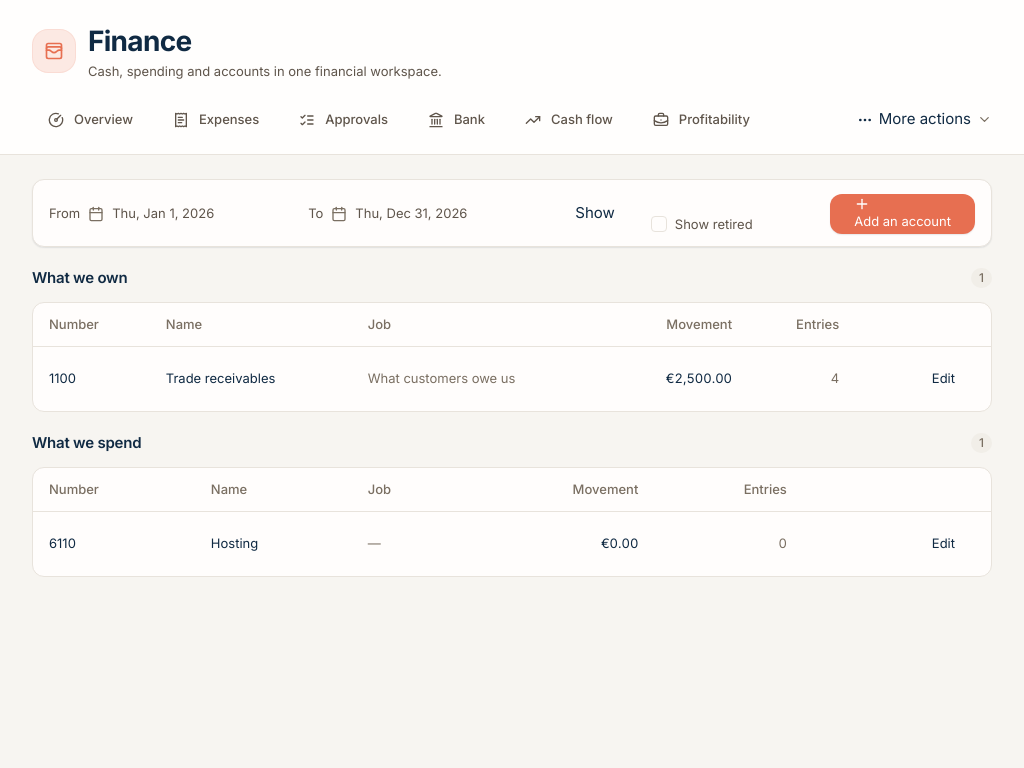
editing an account › a refusal is the server's own sentence, and the form stays open on it
Click the button "Edit" in the row of "6110" at (943,544), box [912,524,975,564]
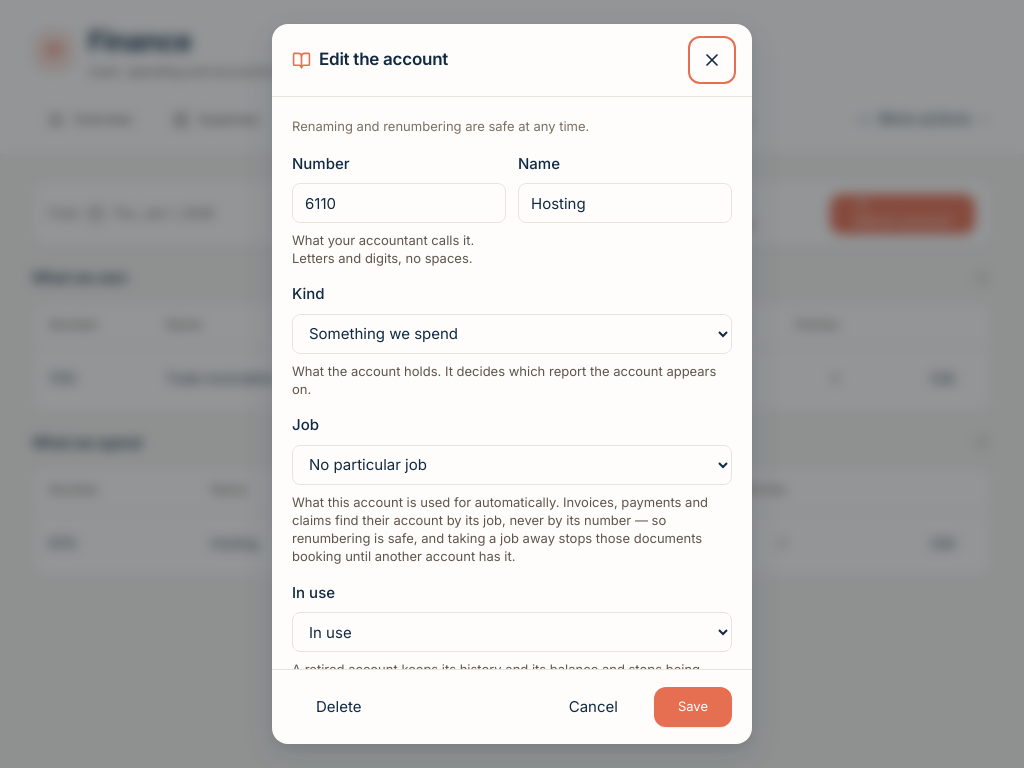
Replace the text in the field showing "6110" with "1100" at (399,203), box [292,183,506,223]
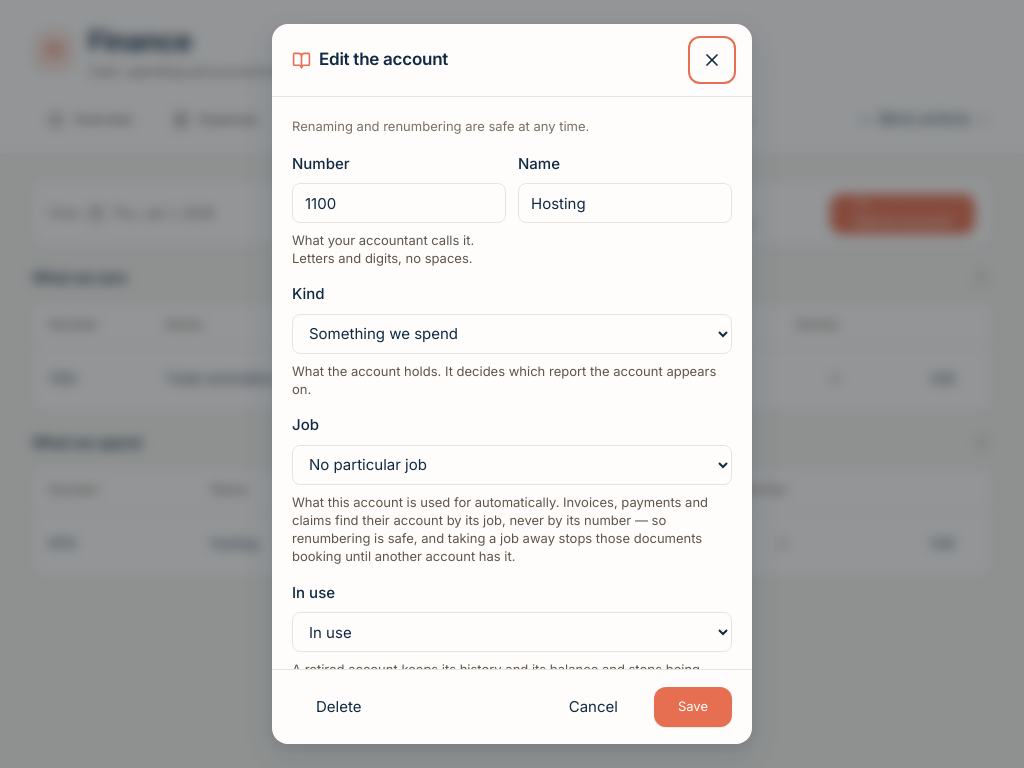
Click the button "Save" at (693,707), box [654,687,732,727]
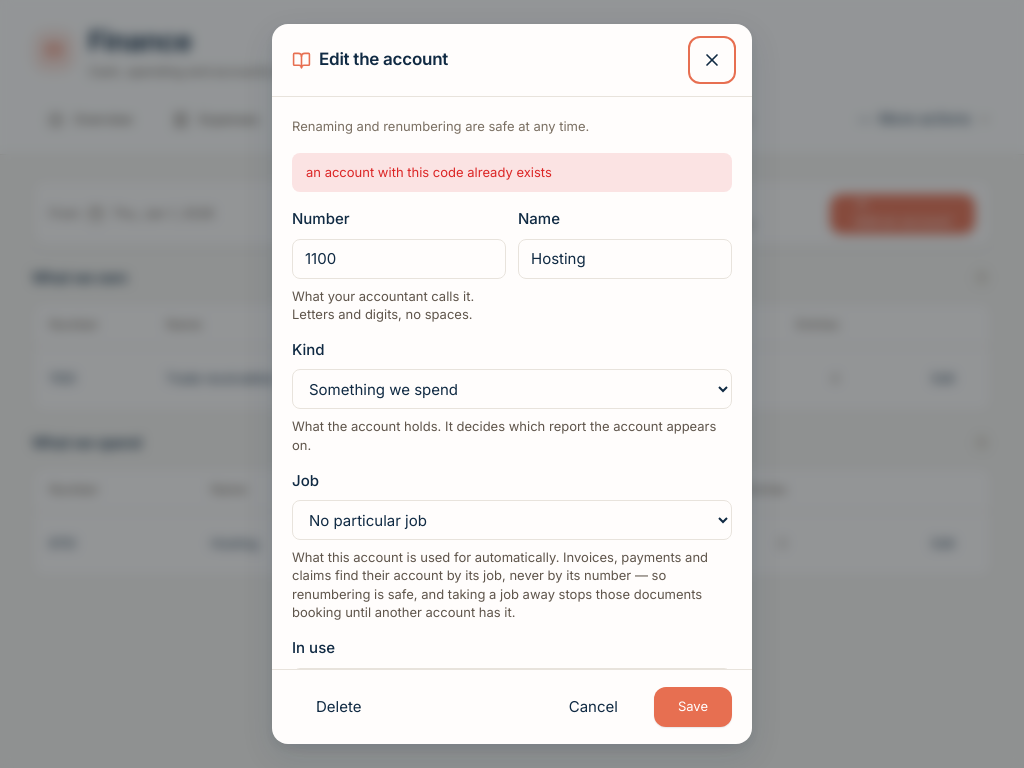
expect the text "an account with this code already exists" is shown: met, box [292,152,732,192]
